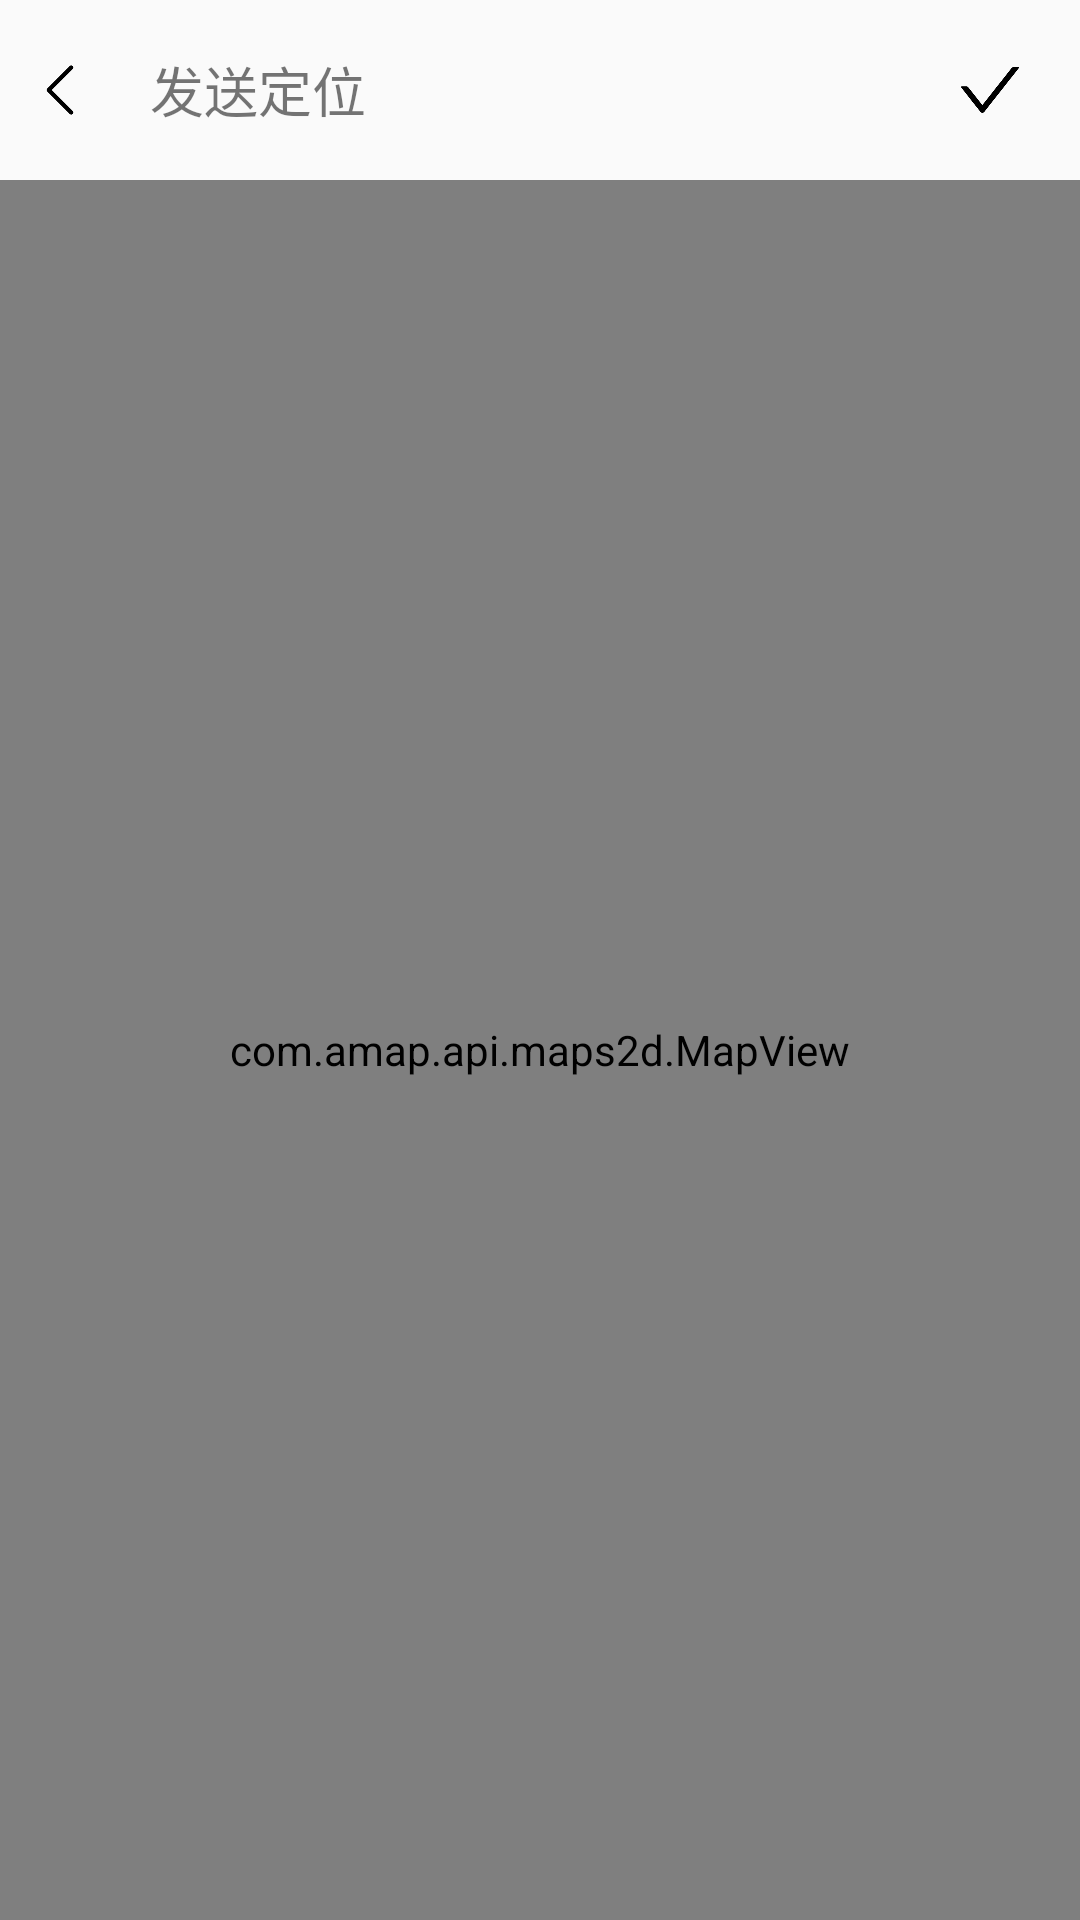

Locate icon controls on the screen. Image size 1080×1920, boxes as (x1, y1, x2, y2).
arrow left: (46, 65, 74, 115)
correct: (961, 67, 1019, 113)
